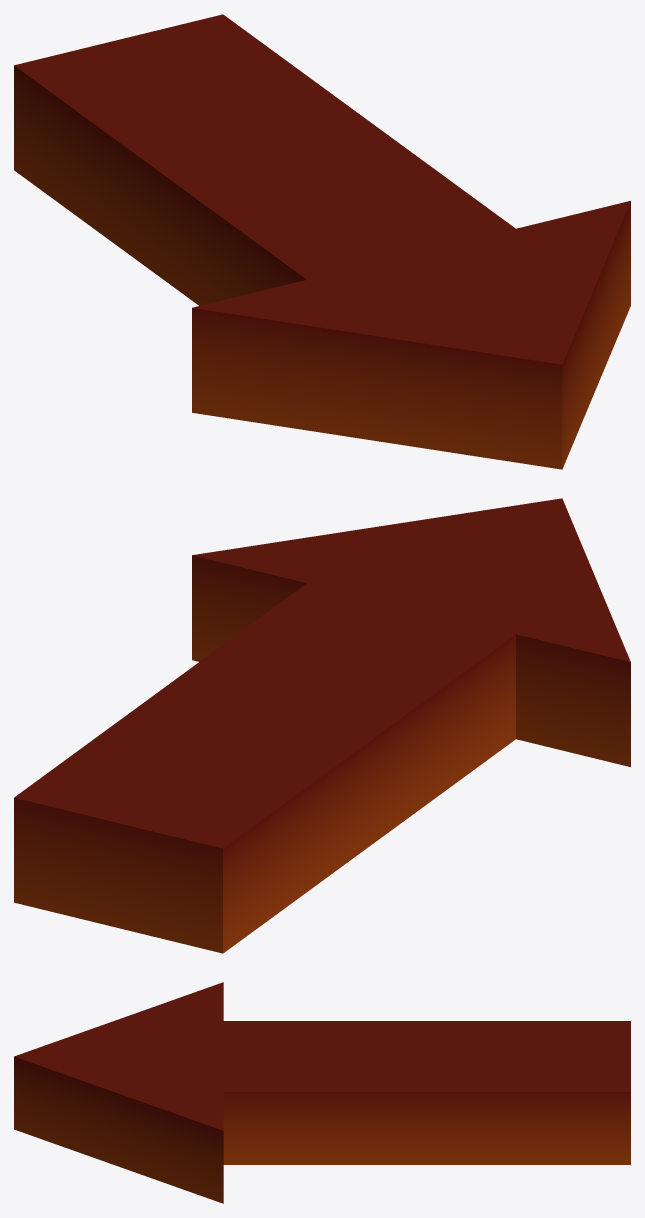
File: 3D_FTUE_Arrow.fbx
3 views of the same model, one above another, from view 1: azimuth 30°, elevation 25°; view 2: azimuth 150°, elevation 25°; view 3: azimuth 270°, elevation 25° (orthographic). The views are drawn at different scales.
Visible parts, largest first — view 1: FTUE_Arrow; view 2: FTUE_Arrow; view 3: FTUE_Arrow.
Part boxes in pixels (x1=…): FTUE_Arrow: x1=14, y1=14, x2=630, y2=469; FTUE_Arrow: x1=14, y1=498, x2=630, y2=953; FTUE_Arrow: x1=14, y1=982, x2=630, y2=1203.
Bounding box in the file's own units: 83.43 × 19.06 × 146.
